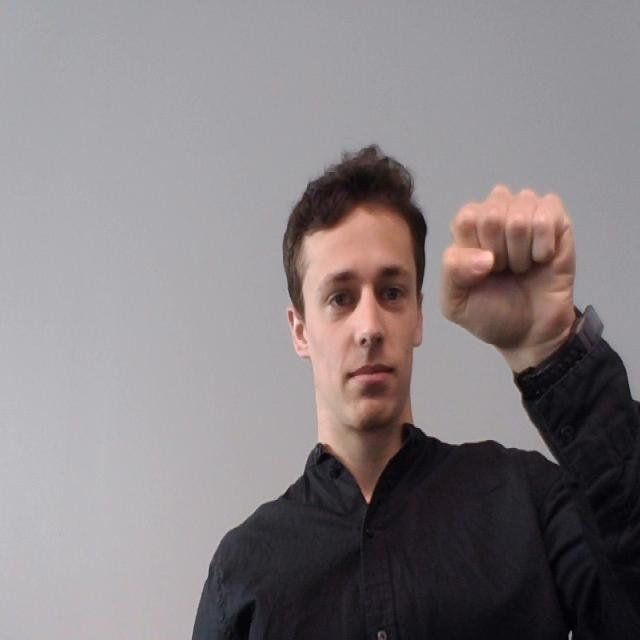stop: (428, 175, 592, 368)
